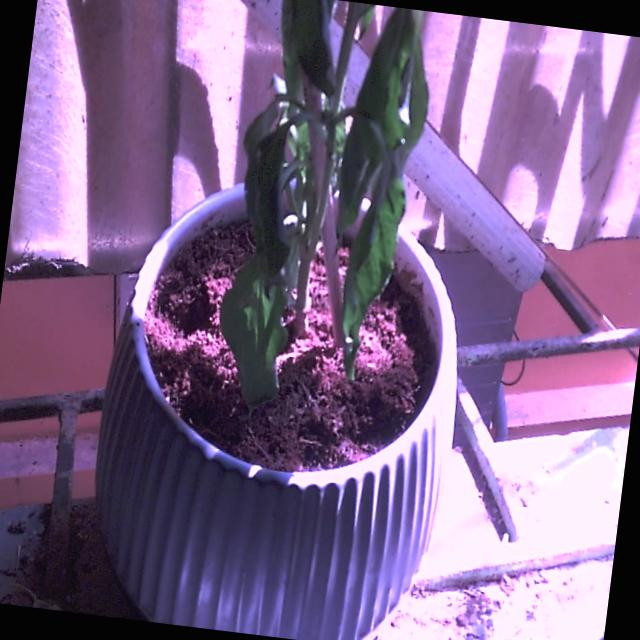Leaf: (330, 147, 412, 380), (206, 241, 306, 418)
